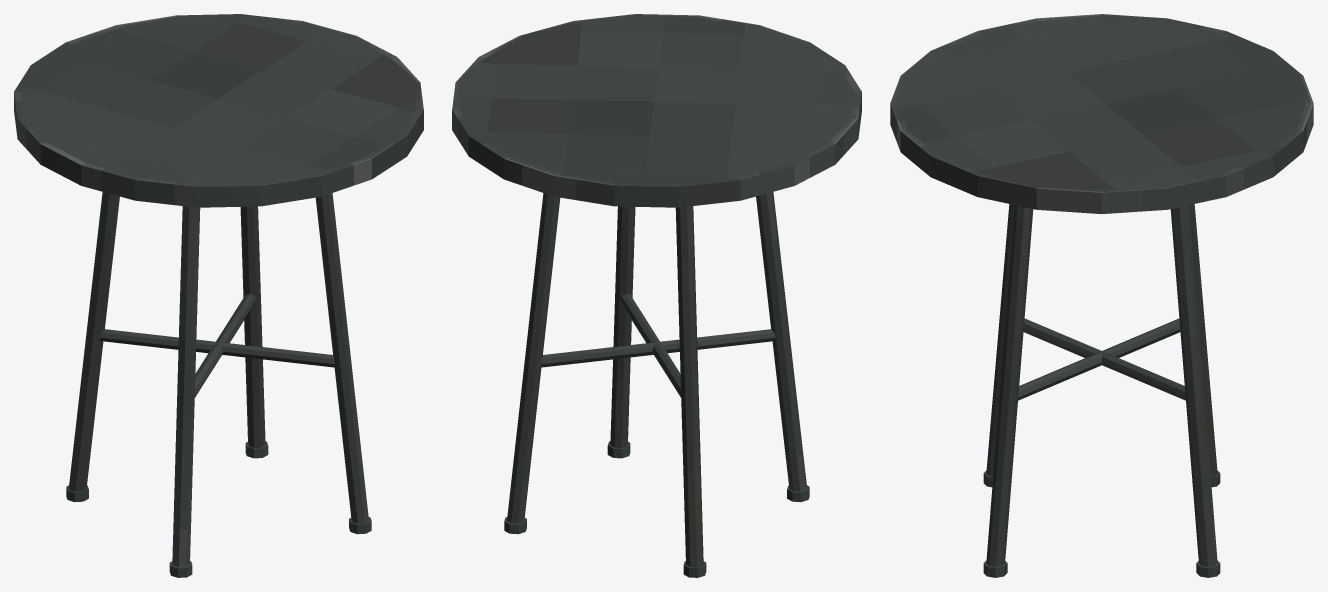
The model's file is iron-round-table.glb.
3 renders of one model, left to right at view 1: azimuth 30°, elevation 25°; view 2: azimuth 150°, elevation 25°; view 3: azimuth 270°, elevation 25°, orthographic. The views are drawn at different scales.
Parts seen in each view (by area): view 1: iron-round-table/round-top, iron-round-table/folded-round-edge, iron-round-table/leg-2, iron-round-table/leg-3, iron-round-table/leg-1, iron-round-table/leg-0, iron-round-table/low-cross-1, iron-round-table/low-cross-0; view 2: iron-round-table/round-top, iron-round-table/folded-round-edge, iron-round-table/leg-1, iron-round-table/leg-0, iron-round-table/leg-2, iron-round-table/leg-3, iron-round-table/low-cross-0, iron-round-table/low-cross-1; view 3: iron-round-table/round-top, iron-round-table/folded-round-edge, iron-round-table/leg-0, iron-round-table/leg-3, iron-round-table/low-cross-0, iron-round-table/low-cross-1, iron-round-table/leg-1, iron-round-table/leg-2.
Boxes of the visible parts, box(x1,y1,x2,y2) form: iron-round-table/round-top: box(18, 15, 420, 185); iron-round-table/folded-round-edge: box(14, 14, 423, 207); iron-round-table/leg-2: box(172, 206, 200, 567); iron-round-table/leg-3: box(315, 193, 368, 523); iron-round-table/leg-1: box(69, 192, 119, 491); iron-round-table/leg-0: box(240, 206, 265, 447); iron-round-table/low-cross-1: box(100, 329, 334, 367); iron-round-table/low-cross-0: box(194, 294, 256, 397); iron-round-table/round-top: box(455, 15, 857, 185); iron-round-table/folded-round-edge: box(452, 14, 861, 207); iron-round-table/leg-1: box(675, 206, 703, 567); iron-round-table/leg-0: box(507, 193, 560, 523); iron-round-table/leg-2: box(756, 192, 806, 491); iron-round-table/leg-3: box(610, 206, 635, 447); iron-round-table/low-cross-0: box(541, 329, 775, 367); iron-round-table/low-cross-1: box(619, 294, 681, 397); iron-round-table/round-top: box(893, 15, 1310, 191); iron-round-table/folded-round-edge: box(890, 14, 1313, 213); iron-round-table/leg-0: box(1170, 205, 1217, 566); iron-round-table/leg-3: box(986, 205, 1033, 566); iron-round-table/low-cross-0: box(1023, 318, 1185, 400); iron-round-table/low-cross-1: box(1018, 318, 1180, 400); iron-round-table/leg-1: box(1189, 204, 1217, 476); iron-round-table/leg-2: box(986, 204, 1014, 476).
Size of the model in its own units: 0.633 by 0.7 by 0.633.
Materials: 2 (2 with a texture image).
